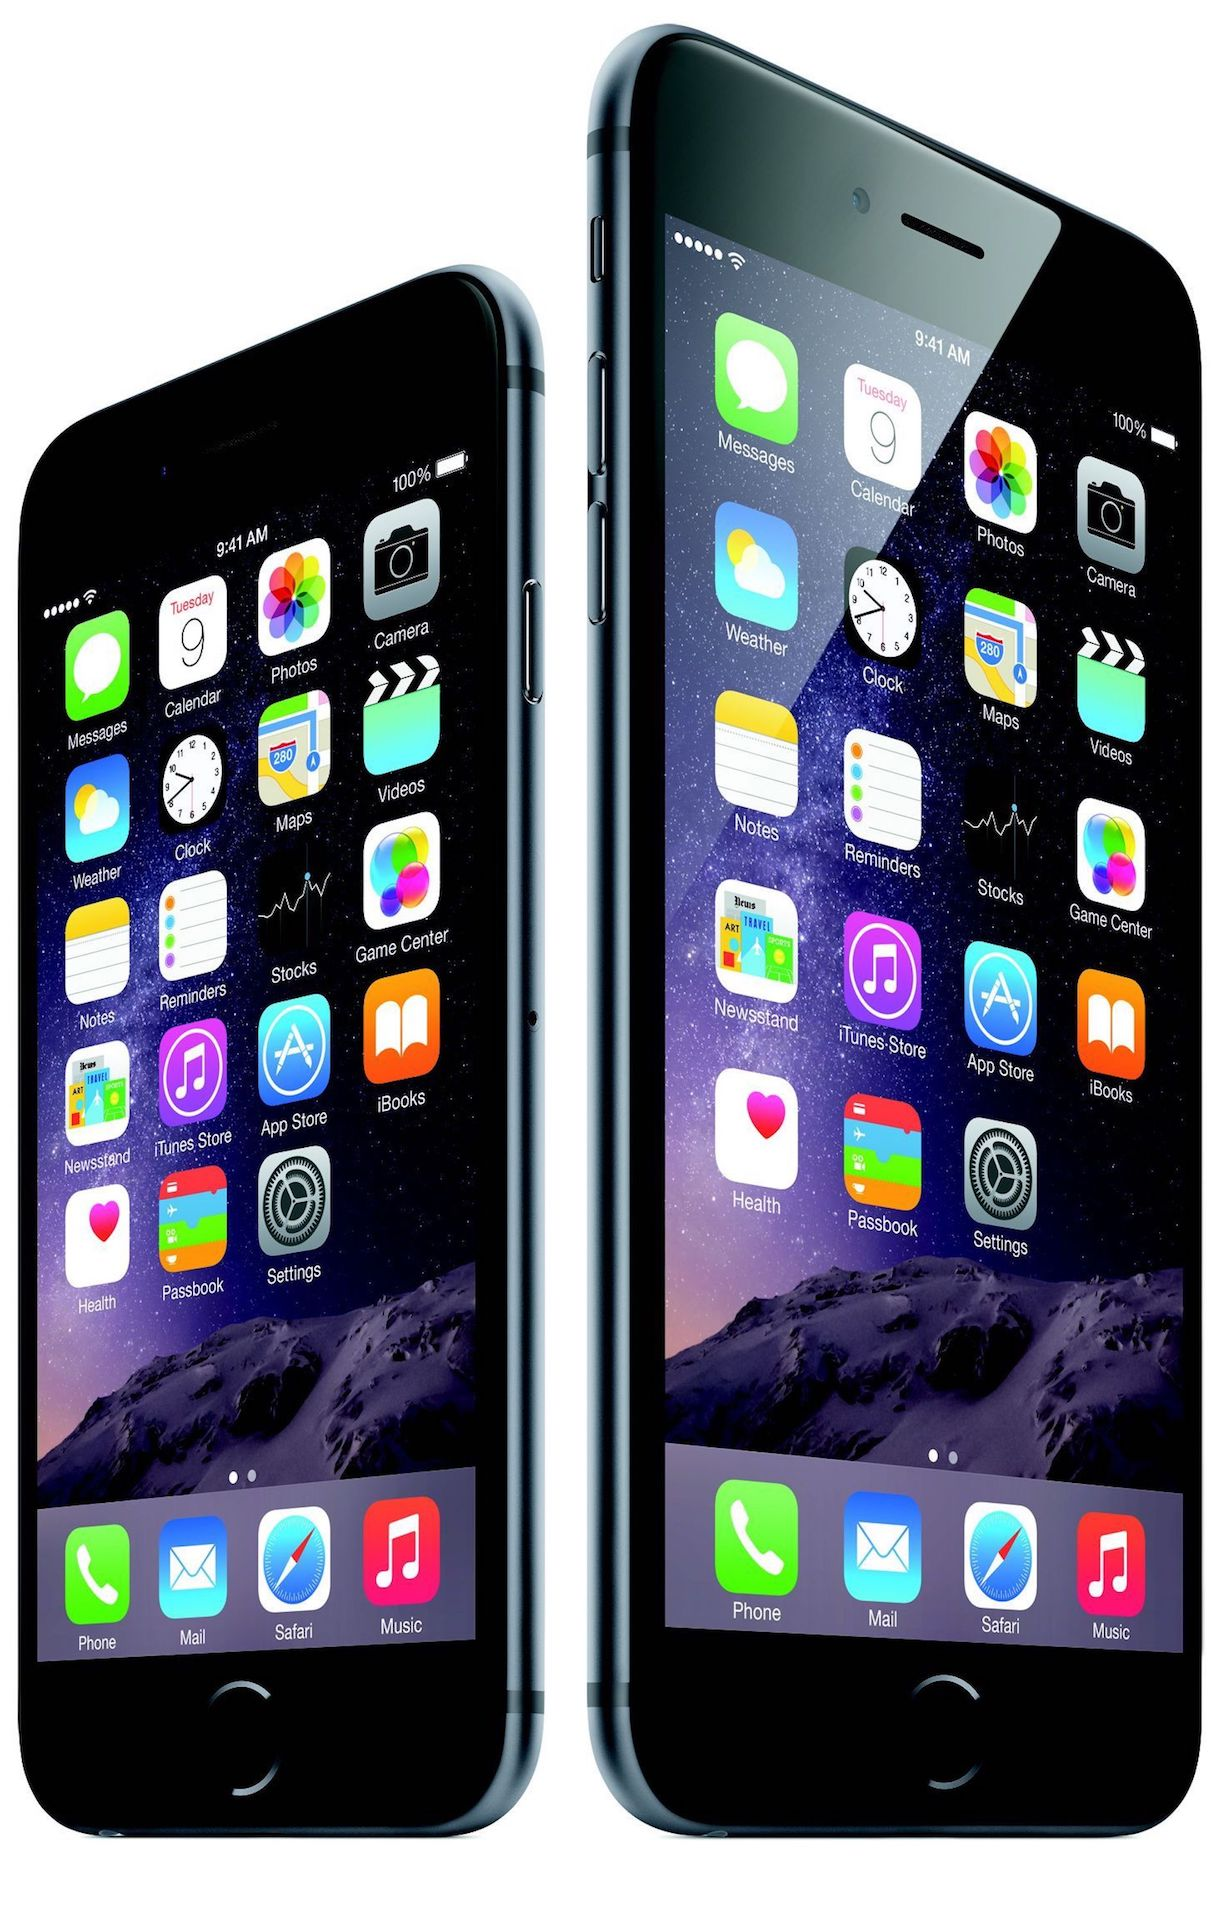smartphone: (583, 22, 1209, 1842), (15, 264, 548, 1842)
